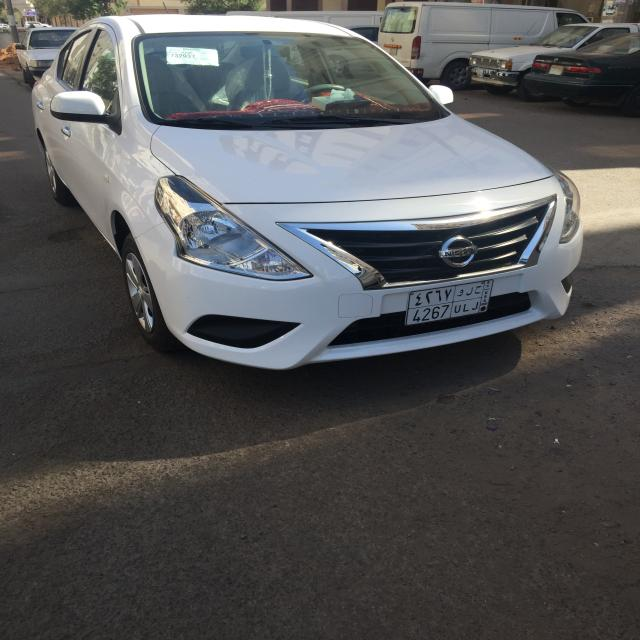license_plate: (403, 278, 495, 326)
